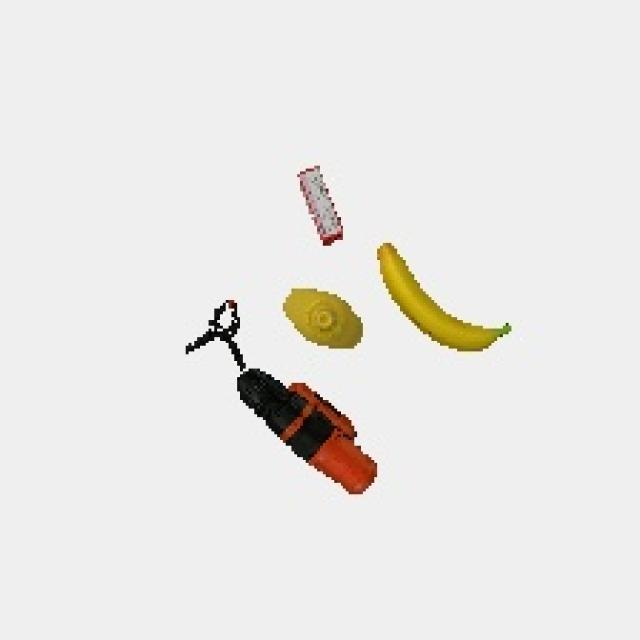Banana: (374, 240, 518, 358)
GelatinBox: (291, 160, 359, 259)
MustardBottle: (279, 284, 366, 358)
PowerDrill: (237, 369, 381, 500)
